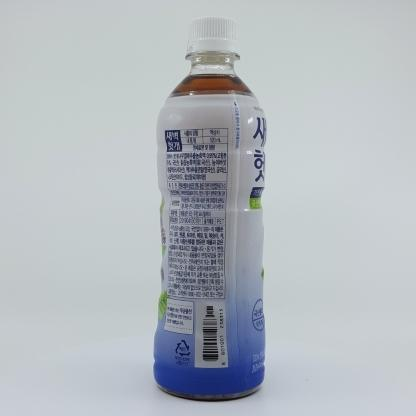---------520ML: (153, 16, 267, 400)
